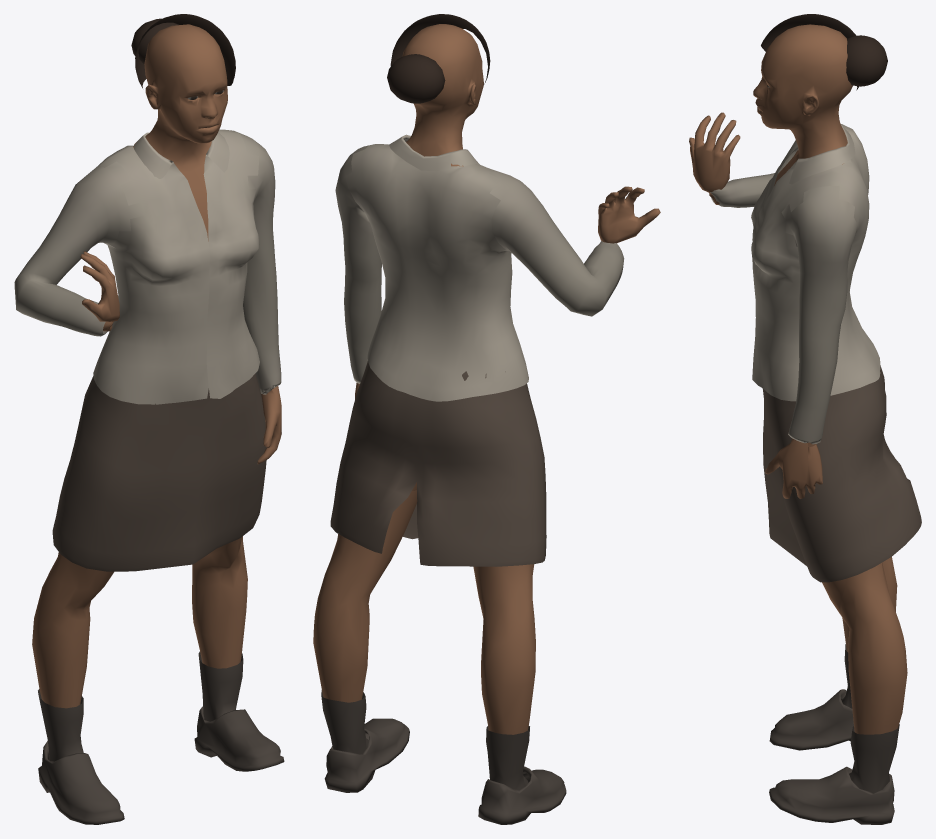
Rendered from participant-18-middle.glb.
The picture shows the model from 3 angles, left to right: view 1: azimuth 30°, elevation 25°; view 2: azimuth 150°, elevation 25°; view 3: azimuth 270°, elevation 25°; orthographic projection.
Parts seen in each view (by area): view 1: Participant anatomy and ordinary clothes; view 2: Participant anatomy and ordinary clothes; view 3: Participant anatomy and ordinary clothes.
Boxes of the visible parts, left/top/right/bottom form: Participant anatomy and ordinary clothes: left=14, top=14, right=284, bottom=824; Participant anatomy and ordinary clothes: left=313, top=14, right=660, bottom=824; Participant anatomy and ordinary clothes: left=689, top=14, right=921, bottom=824.
Bounding box in the file's own units: 0.6489 × 1.82 × 0.5006.
